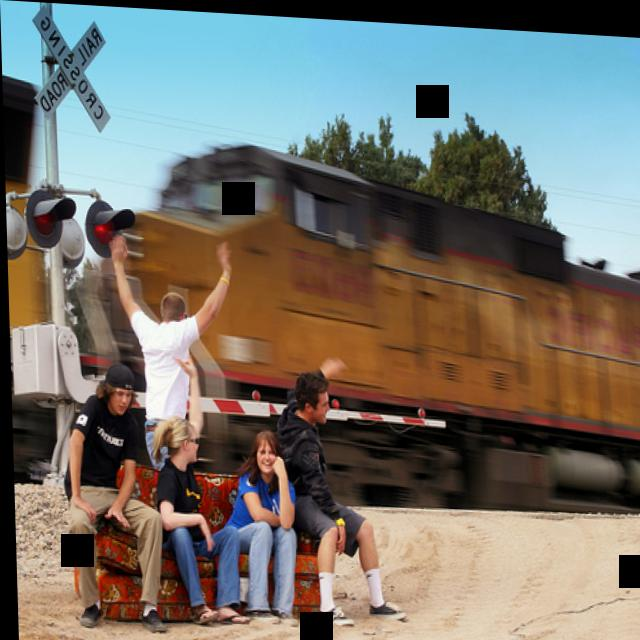locomotive: (82, 101, 640, 525)
